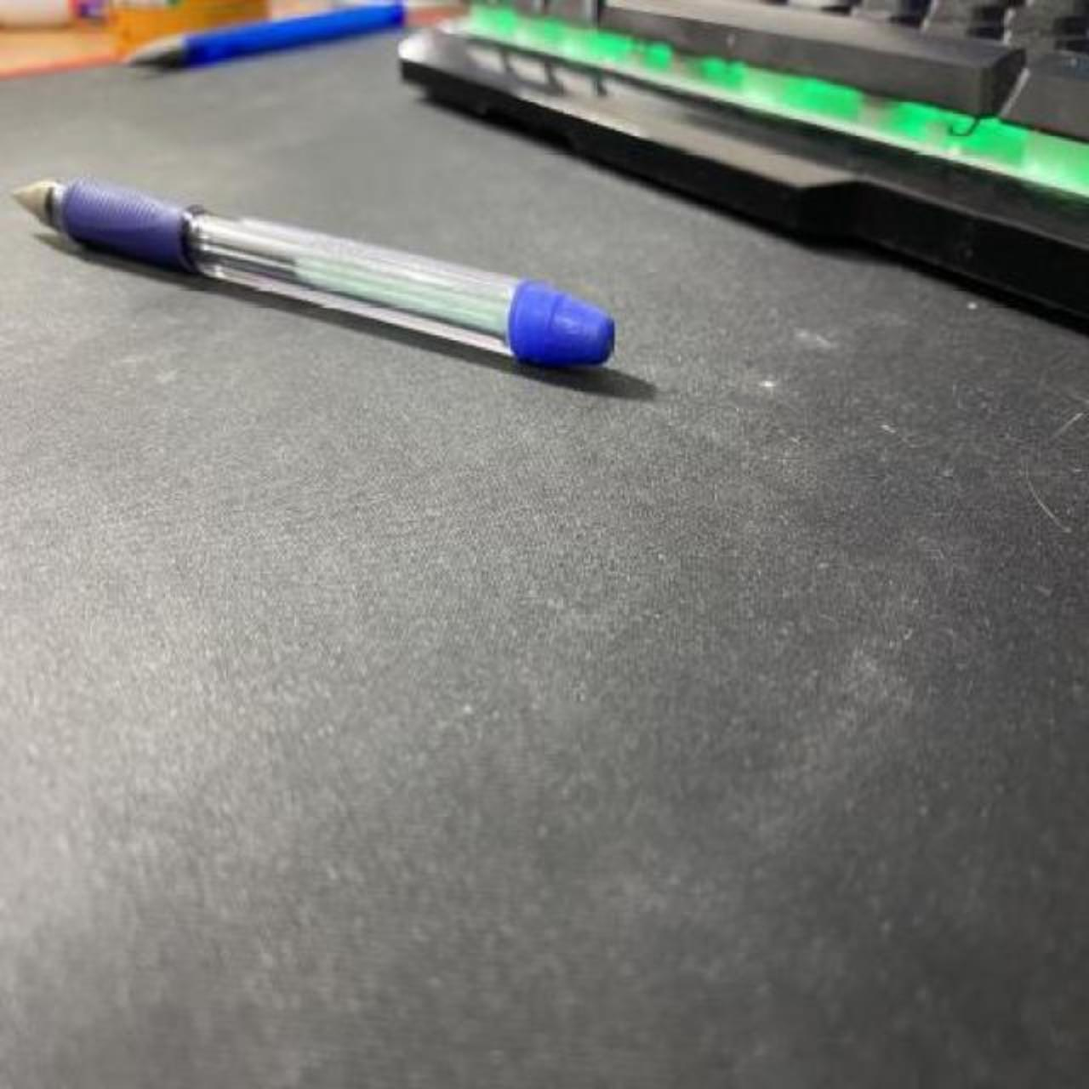pen: (10, 177, 623, 383)
